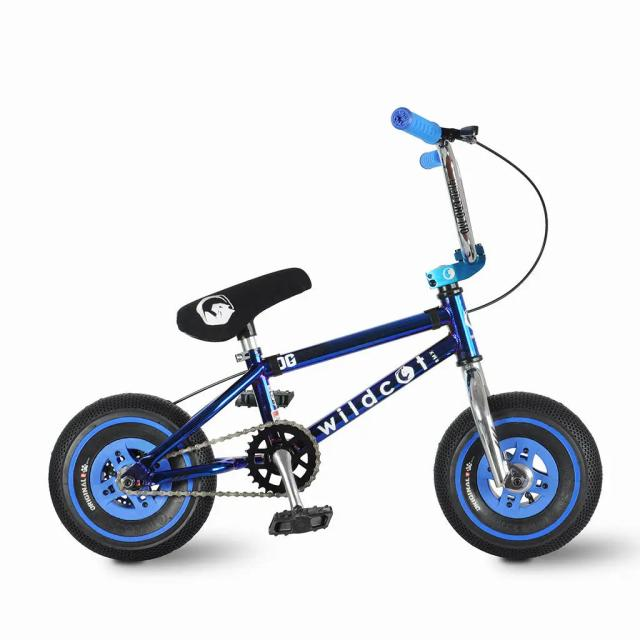bmx-bike: (46, 108, 605, 563)
